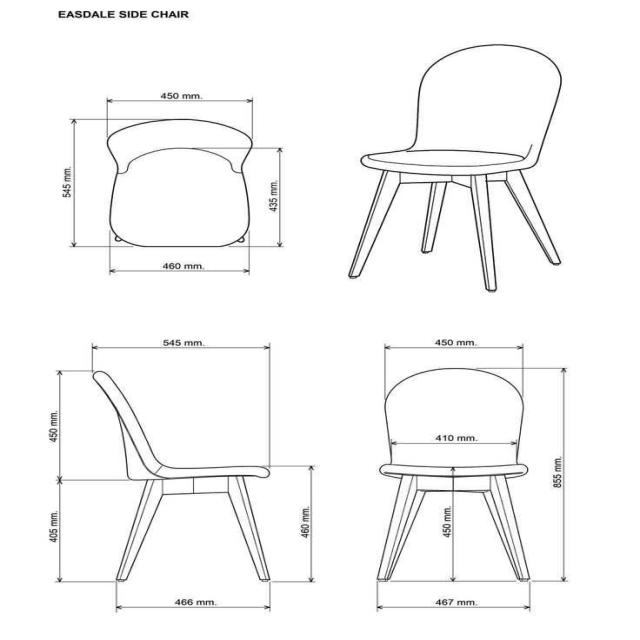Backrest: (402, 38, 567, 163), (380, 366, 529, 470), (86, 361, 168, 480)
Leg_Structure: (341, 165, 568, 295), (107, 473, 277, 589), (373, 470, 537, 585)
Seat: (357, 145, 546, 180), (375, 461, 532, 481), (146, 462, 276, 484)
